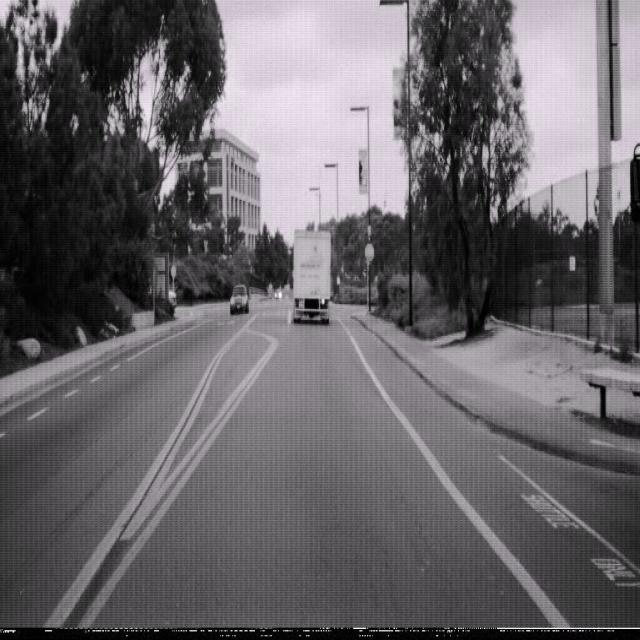stop_sign: (364, 242, 374, 261)
